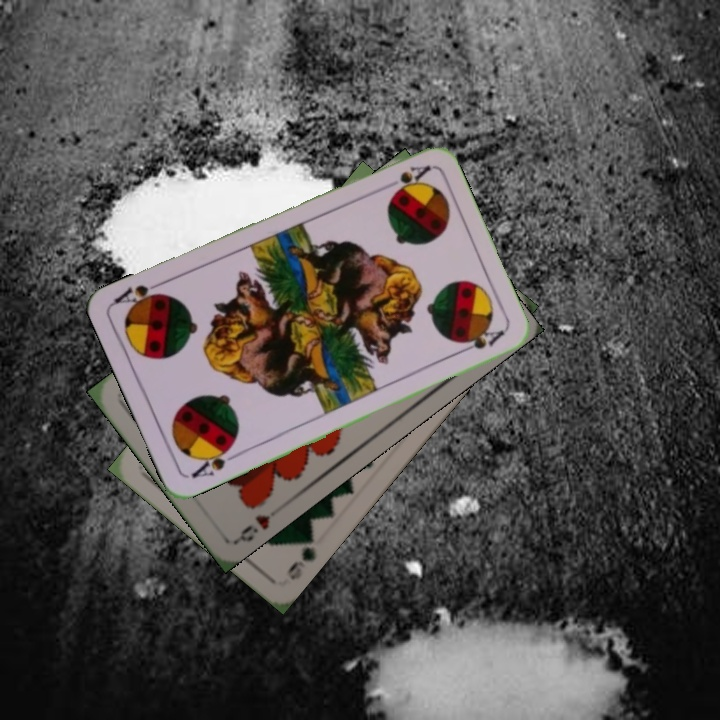G9: (282, 529, 319, 583)
H9: (232, 510, 273, 545)
SA: (187, 440, 242, 481), (388, 161, 433, 196)
